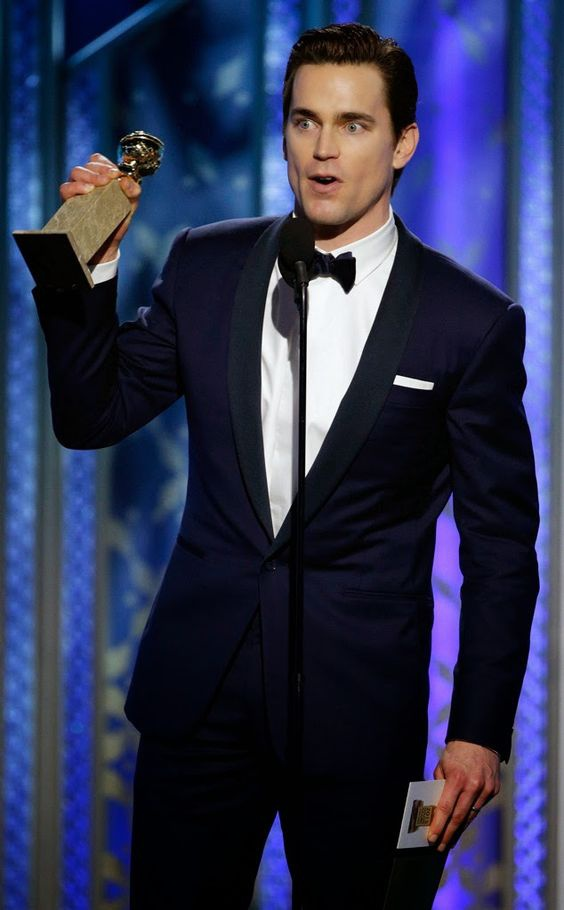hand: (431, 717, 494, 836)
